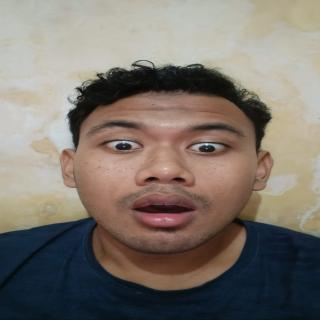Takut: (66, 79, 270, 260)
